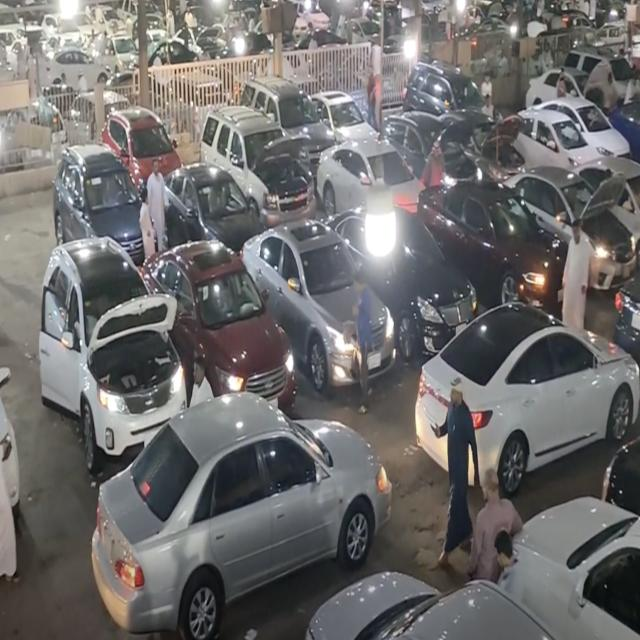license_plate: (368, 352, 382, 374), (630, 312, 640, 330)
